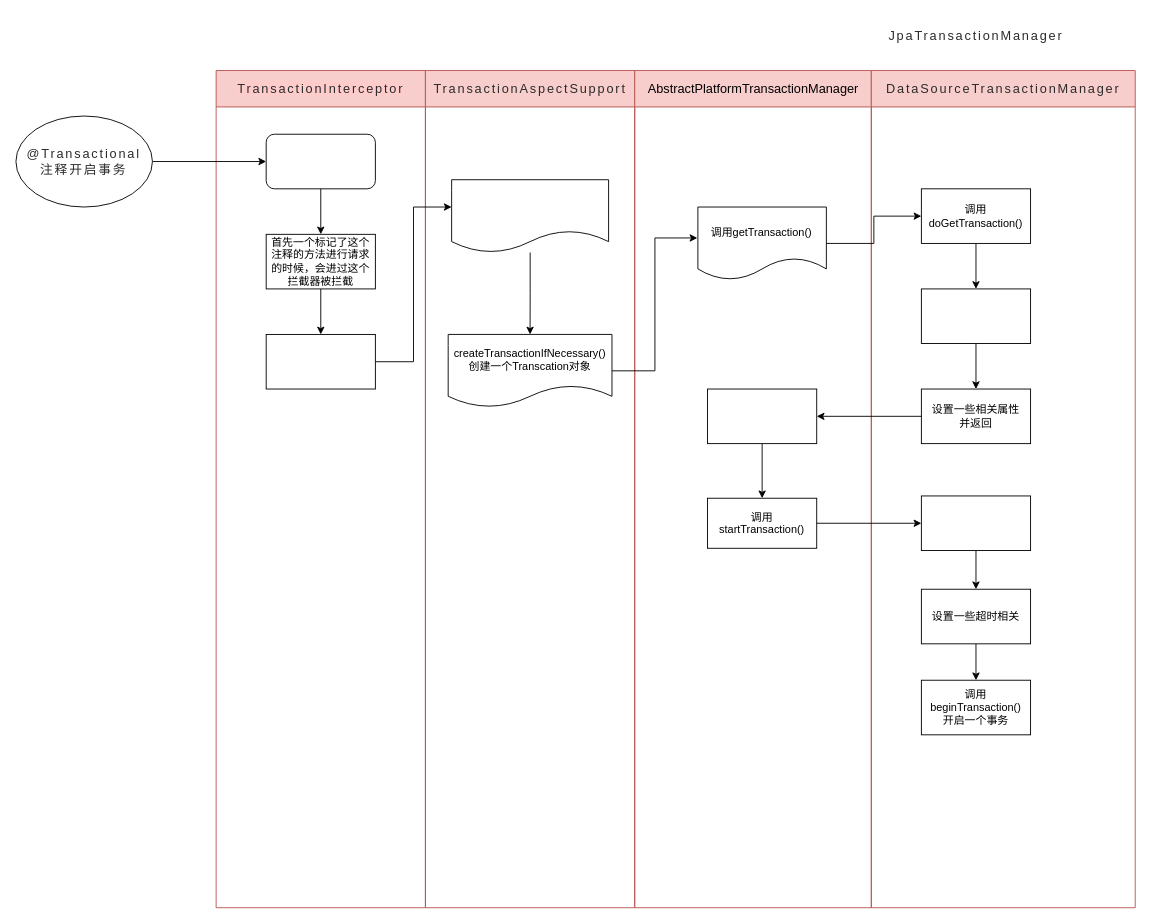
The diagram is 1151 pixels wide and 924 high, and some of its shapes have lost their labels. The shapes that lost their labels are listed below. From the top down, each one's centre as x and y in pixels, then its label:
At (x=320, y=161): "开始".
At (x=530, y=216): "invokeWithinTransaction()".
At (x=975, y=316): "初始化 对象".
At (x=320, y=361): "调用 invoke()".
At (x=762, y=416): "获取创建好的 对象".
At (x=975, y=523): "调用 doBegin() 准备开启 一个事务".
